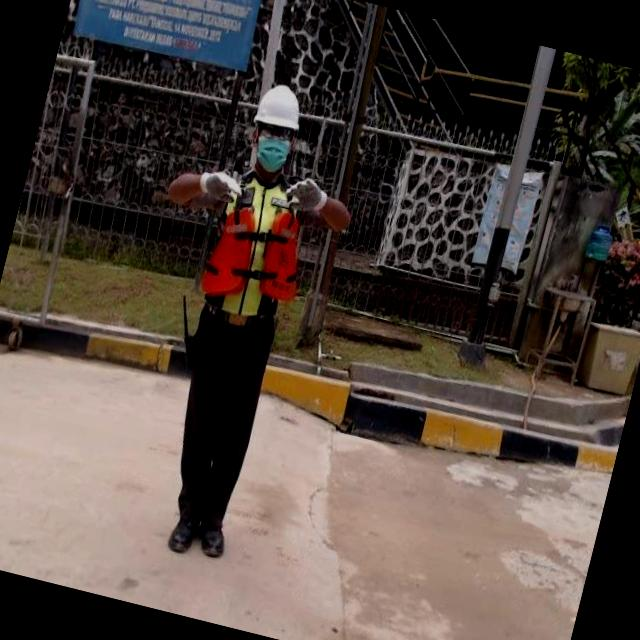boots: (162, 507, 202, 563), (193, 514, 232, 564)
gloves: (272, 150, 340, 234), (186, 154, 244, 207)
helmet: (250, 80, 308, 139)
vest: (194, 162, 320, 333)
